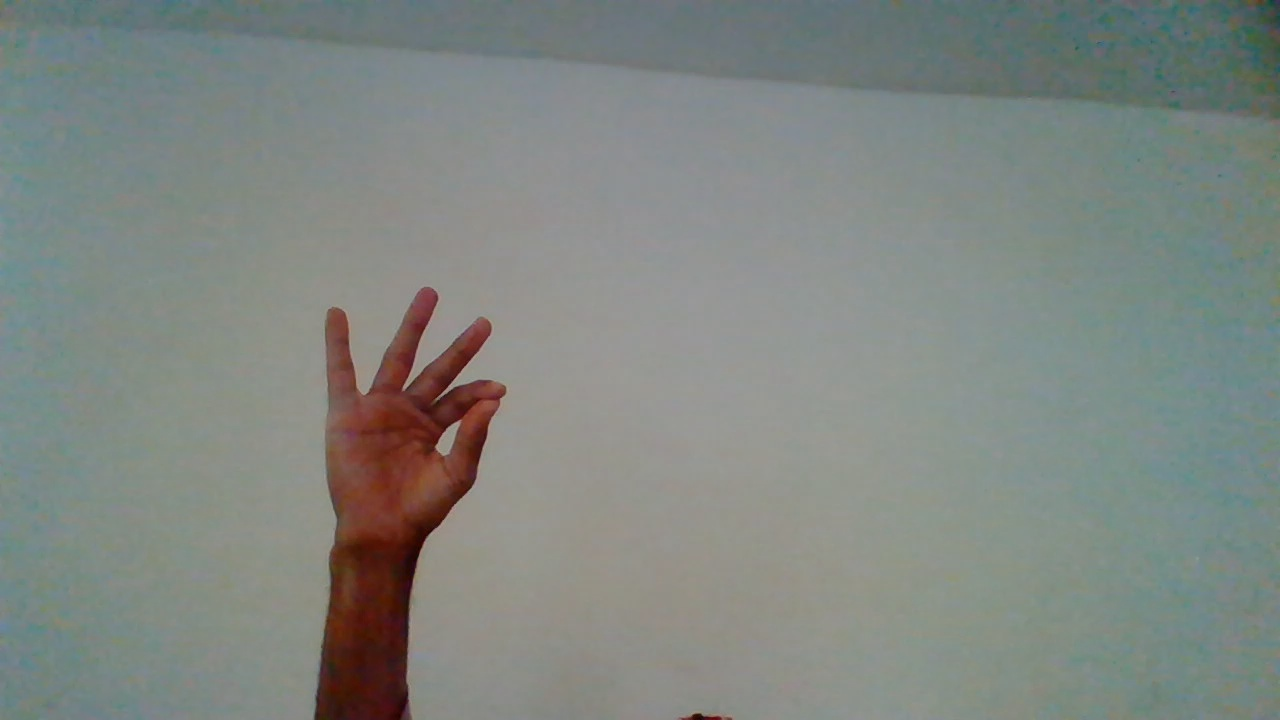le: (315, 274, 520, 695)
